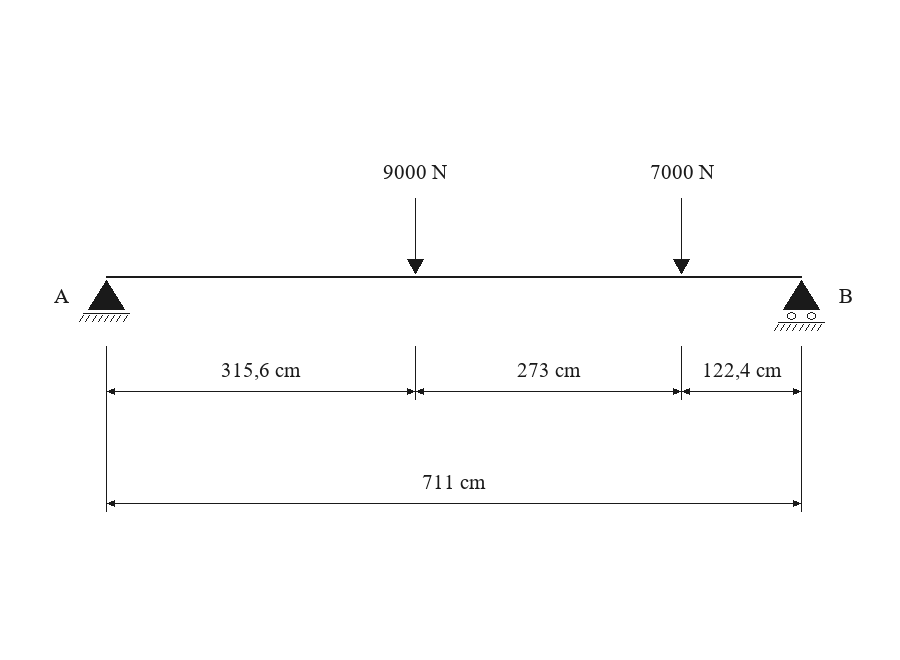pin_support: (79, 280, 130, 322)
point_load: (407, 198, 424, 274), (673, 198, 690, 274)
roller_support: (774, 280, 825, 331)
